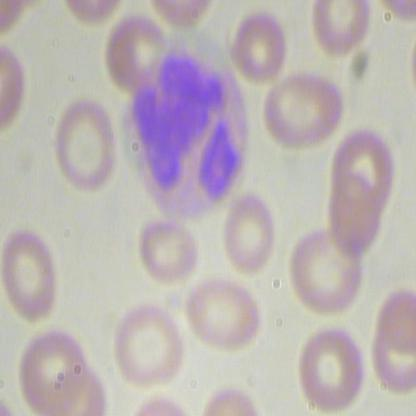RBC: (47, 91, 118, 198), (283, 224, 365, 314), (187, 270, 266, 357), (109, 302, 188, 389), (15, 327, 92, 415), (293, 324, 365, 415), (263, 75, 346, 148), (1, 225, 58, 328), (134, 214, 208, 286), (228, 5, 291, 89), (221, 186, 279, 276), (104, 9, 166, 93), (331, 127, 393, 211), (308, 1, 371, 67)
WBC: (122, 38, 256, 230)
